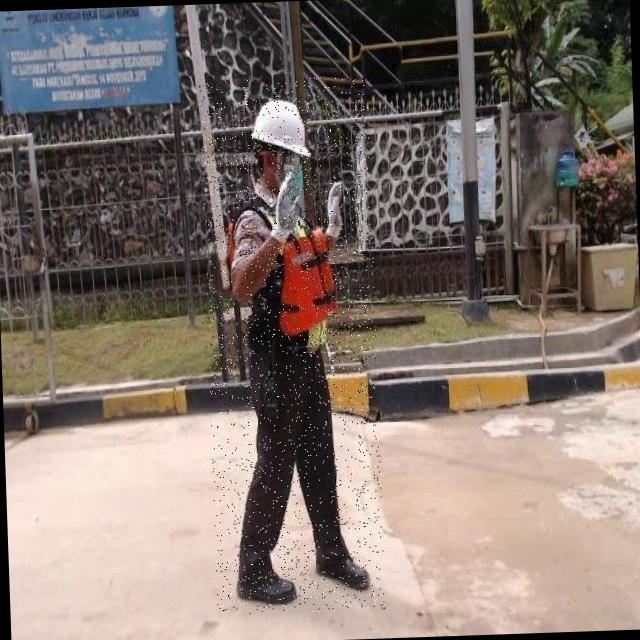boots: (311, 546, 376, 598), (232, 562, 298, 611)
gloves: (268, 164, 301, 248), (316, 168, 352, 245)
helmet: (246, 90, 316, 162)
vest: (220, 182, 345, 350)
